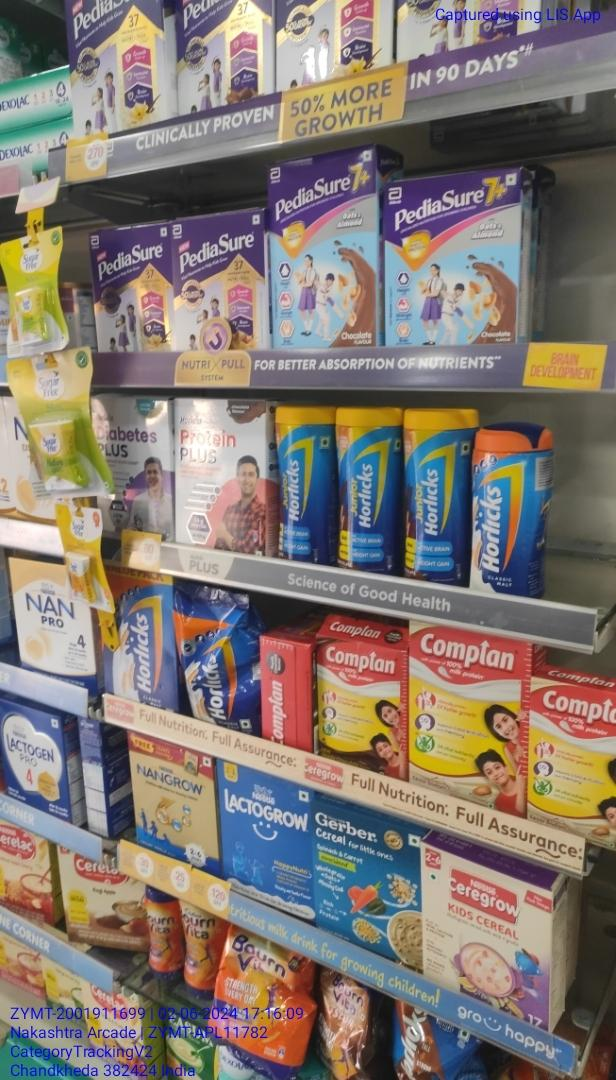COMPLAN_KESAR_BADAM_200_GMS_PACK: (528, 679, 616, 827)
HORLICK_CLASSIC_MALT_500_G_JAR: (472, 427, 530, 594)
PEDIASURE_7_PLUS_CHOCOLATE_400_G_PACK: (383, 174, 521, 342), (271, 164, 374, 344)
